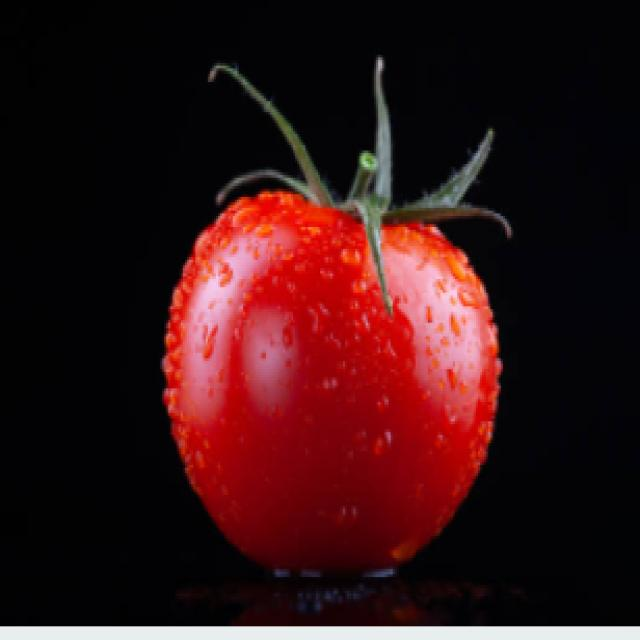Tomato: (148, 50, 540, 588)
